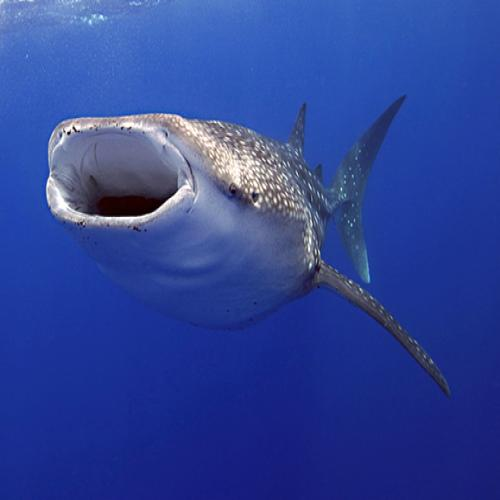shark-endangered: (44, 90, 452, 400)
